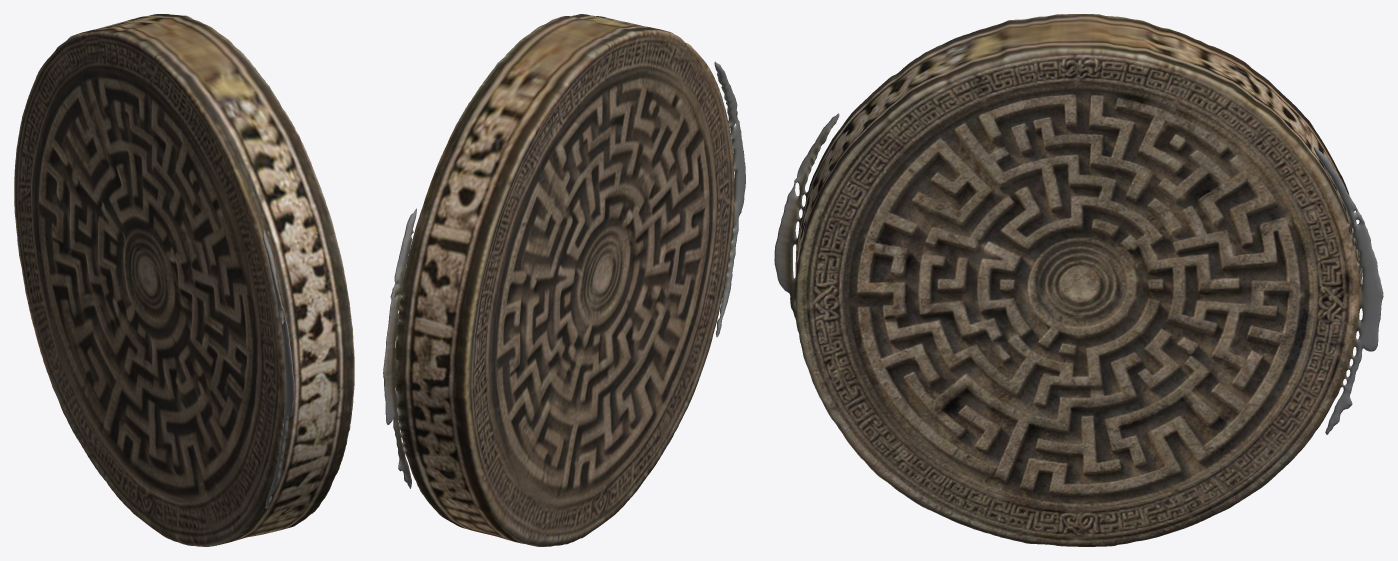
The model's file is labyrinth_3d.glb.
The picture shows the model from 3 angles, left to right: view 1: azimuth 30°, elevation 25°; view 2: azimuth 150°, elevation 25°; view 3: azimuth 270°, elevation 25°; orthographic projection. The views are drawn at different scales.
Parts seen in each view (by area): view 1: tripo_node_d75a5583-9458-468d-8f79-2517a3f398b7; view 2: tripo_node_d75a5583-9458-468d-8f79-2517a3f398b7; view 3: tripo_node_d75a5583-9458-468d-8f79-2517a3f398b7.
Part boxes in pixels (bbox=[...]): tripo_node_d75a5583-9458-468d-8f79-2517a3f398b7: bbox=[14, 14, 354, 546]; tripo_node_d75a5583-9458-468d-8f79-2517a3f398b7: bbox=[383, 14, 745, 546]; tripo_node_d75a5583-9458-468d-8f79-2517a3f398b7: bbox=[774, 14, 1383, 546].
Size of the model in its own units: 0.1328 by 0.7533 by 0.8306.
1 material, 1 textured.
